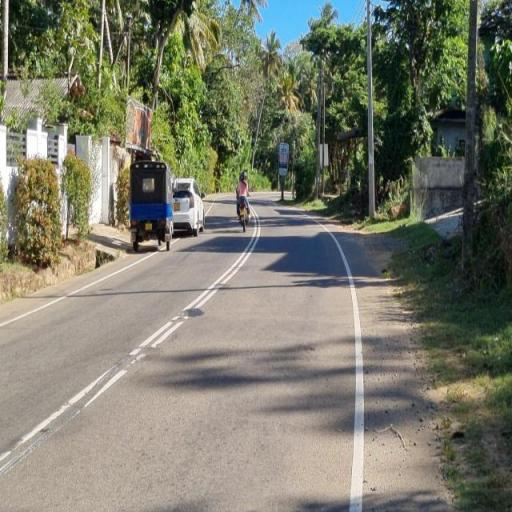double_white_line: (128, 205, 262, 363)
